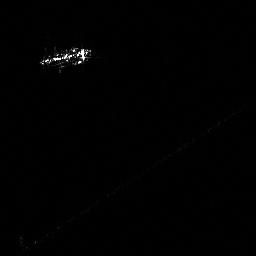ship: (37, 44, 96, 70)
